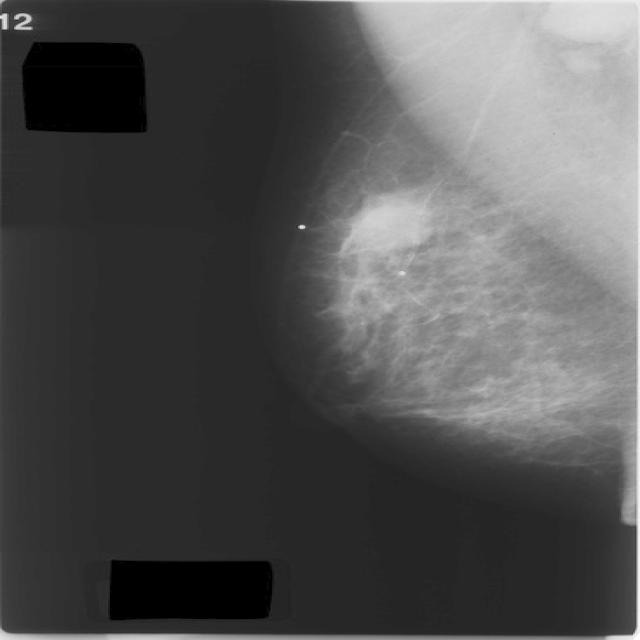tumour: (352, 196, 432, 251)
